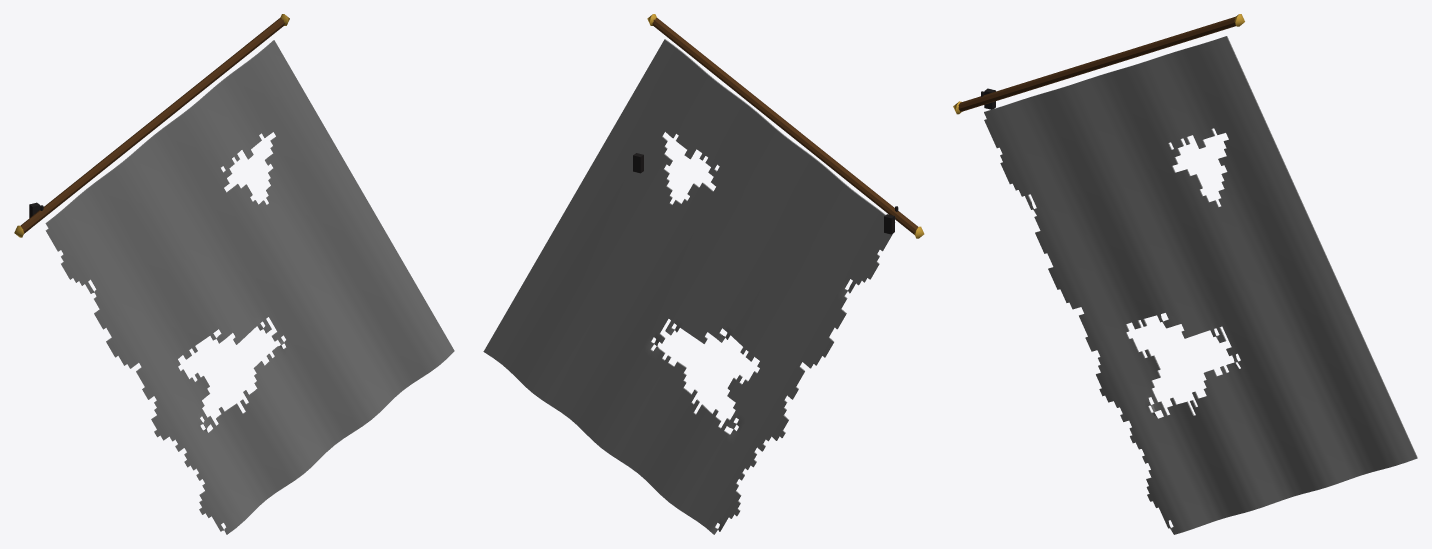
Rendered from wandteppich_kaputt.glb.
3 renders of one model, left to right at view 1: azimuth 30°, elevation 25°; view 2: azimuth 150°, elevation 25°; view 3: azimuth 330°, elevation 25°, orthographic. The views are drawn at different scales.
Visible parts, largest first — view 1: wandteppich_kaputt; view 2: wandteppich_kaputt; view 3: wandteppich_kaputt.
Boxes of the visible parts, bbox=[...] form: wandteppich_kaputt: bbox=[14, 14, 454, 534]; wandteppich_kaputt: bbox=[483, 14, 924, 534]; wandteppich_kaputt: bbox=[953, 14, 1417, 534].
Bounding box in the file's own units: 2.29 × 2.51 × 0.11.
